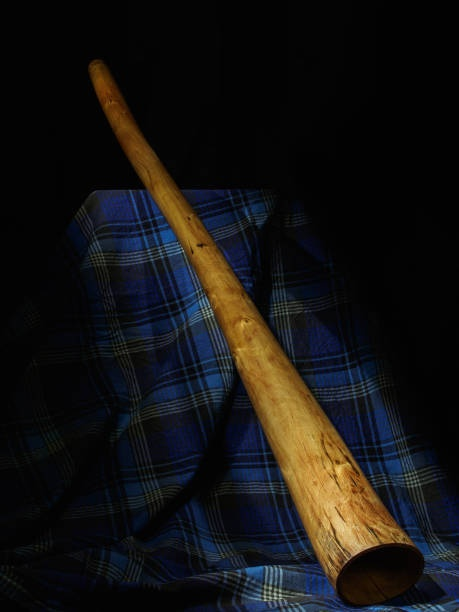bita: (87, 60, 421, 591)
